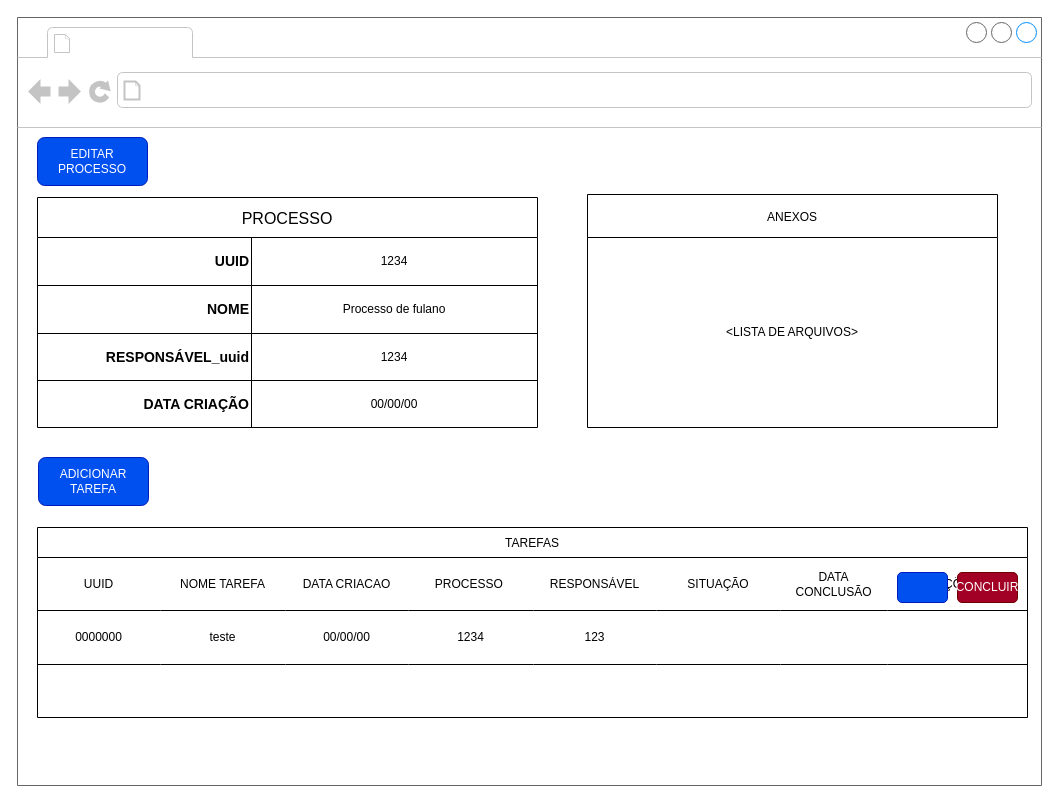
Some shapes in this 1059 by 803 pixel diagram are drawn without their labels. Each missing label, with the centre of its shape:
"EDITAR" belongs at (922,587).
"https://www.draw.io" belongs at (272,90).
"Ver Processo" belongs at (132,42).
